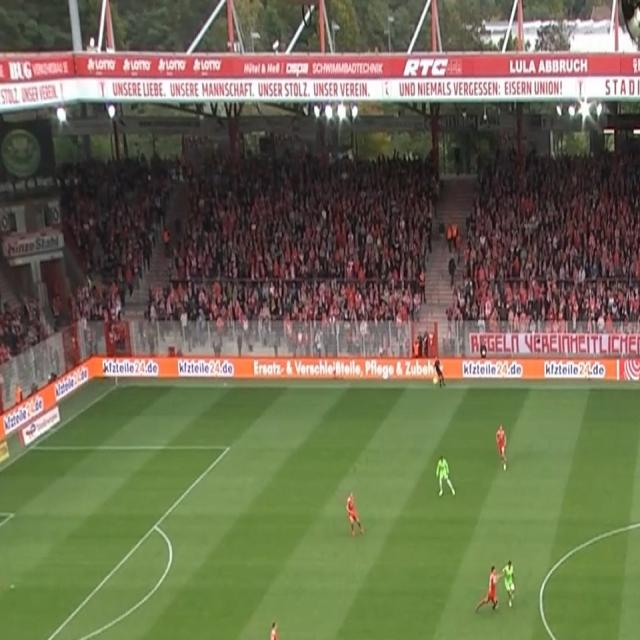ball: (510, 582, 515, 593)
